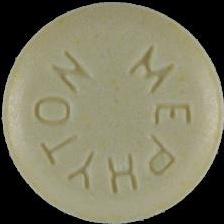68151-0158: (0, 0, 224, 224)
